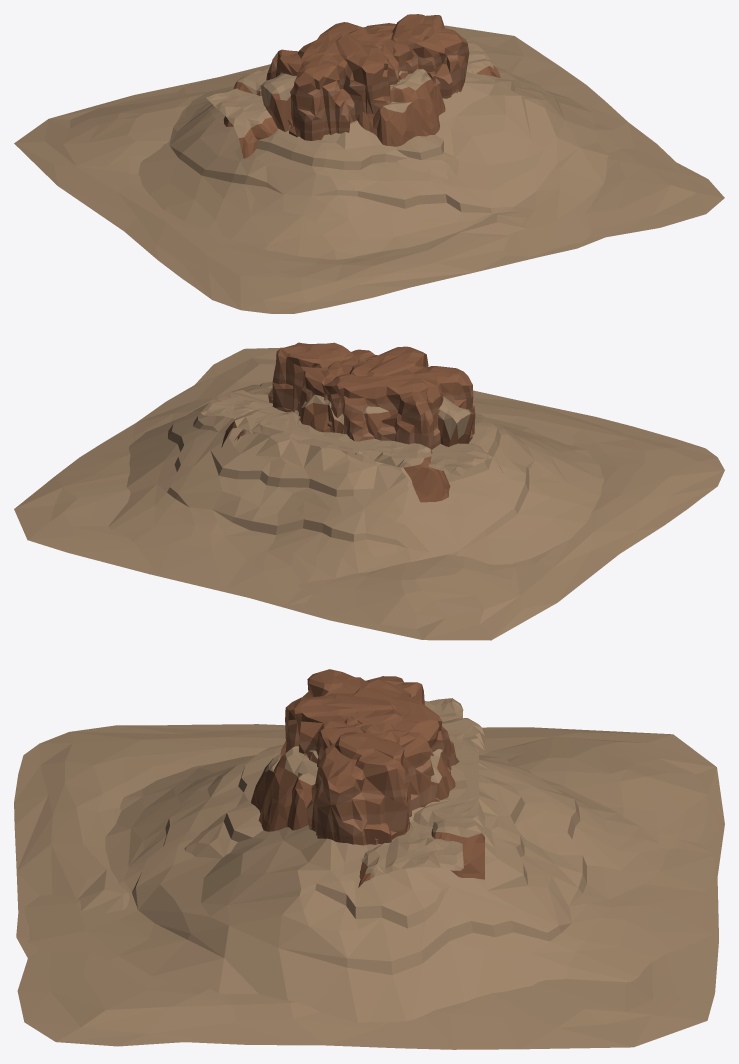
The model's file is town.glb.
3 renders of one model, top to bottom at view 1: azimuth 30°, elevation 25°; view 2: azimuth 150°, elevation 25°; view 3: azimuth 270°, elevation 25°, orthographic. The views are drawn at different scales.
Parts seen in each view (by area): view 1: town_part_0076_76, town_part_0078_78, town_part_0001_1, town_part_0088_88, town_part_0002_2, town_part_0020_20, town_part_0097_97, town_part_0370_370; view 2: town_part_0076_76, town_part_0078_78, town_part_0001_1, town_part_0370_370, town_part_0002_2, town_part_0067_67, town_part_0097_97, town_part_0024_24; view 3: town_part_0076_76, town_part_0078_78, town_part_0001_1, town_part_0370_370, town_part_0002_2, town_part_0088_88, town_part_0020_20, town_part_0067_67.
Boxes of the visible parts, x1,y1,x2,y2 form: town_part_0076_76: (138,65,608,259); town_part_0078_78: (14,25,724,313); town_part_0001_1: (266,14,469,140); town_part_0088_88: (357,69,445,146); town_part_0002_2: (206,37,500,158); town_part_0020_20: (393,135,458,182); town_part_0097_97: (260,73,296,131); town_part_0370_370: (223,68,268,126); town_part_0076_76: (108,382,604,604); town_part_0078_78: (14,347,724,640); town_part_0001_1: (271,342,475,454); town_part_0370_370: (221,410,450,502); town_part_0002_2: (200,390,500,476); town_part_0067_67: (300,394,390,438); town_part_0097_97: (438,396,474,446); town_part_0024_24: (234,429,416,494); town_part_0076_76: (24,744,714,1022); town_part_0078_78: (14,724,724,1049); town_part_0001_1: (280,669,459,845); town_part_0370_370: (409,718,484,879); town_part_0002_2: (358,698,463,887); town_part_0088_88: (251,746,318,831); town_part_0020_20: (184,799,263,858); town_part_0067_67: (307,749,455,799).
Bounding box in the file's own units: 66.64 × 28.32 × 61.78.
15 materials, 9 textured.
